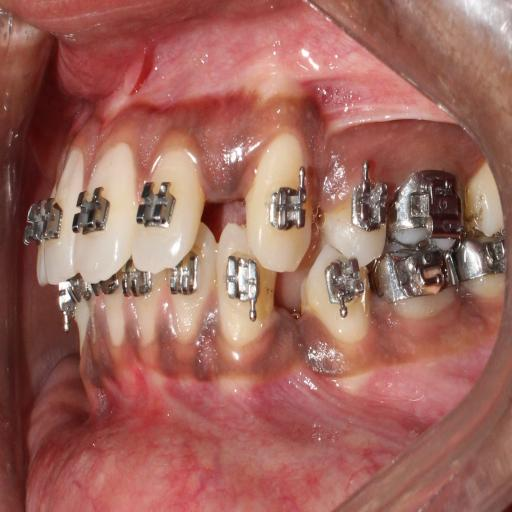correct_brace: (324, 182, 388, 270), (265, 176, 309, 239), (136, 179, 179, 231), (75, 184, 112, 240)
incorrect_brace: (134, 144, 203, 279), (345, 178, 389, 233)
